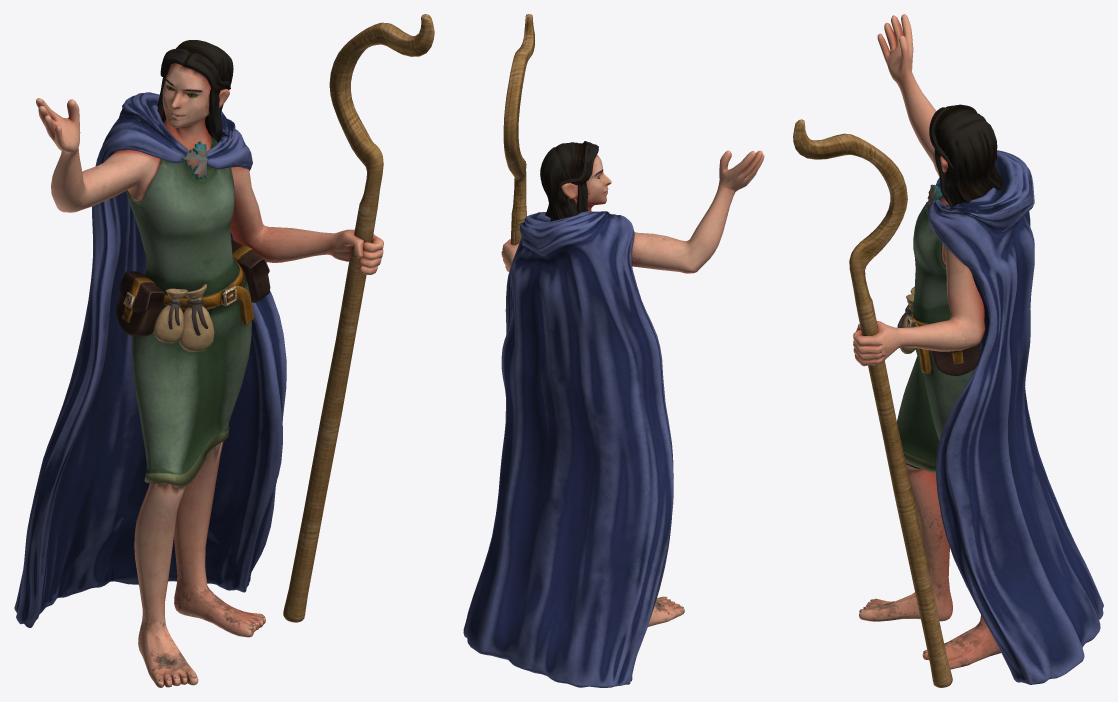
Rendered from MZ4250 - Druid Female_C.glb.
3 renders of one model, left to right at view 1: azimuth 30°, elevation 25°; view 2: azimuth 150°, elevation 25°; view 3: azimuth 270°, elevation 25°, orthographic. The views are drawn at different scales.
Parts seen in each view (by area): view 1: Cube.001; view 2: Cube.001; view 3: Cube.001.
Boxes of the visible parts, <box> form: Cube.001: <box>14,14,434,687</box>; Cube.001: <box>463,14,764,687</box>; Cube.001: <box>793,14,1103,687</box>.
Bounding box in the file's own units: 0.5405 × 0.9843 × 0.4701.
1 material, 1 textured.
